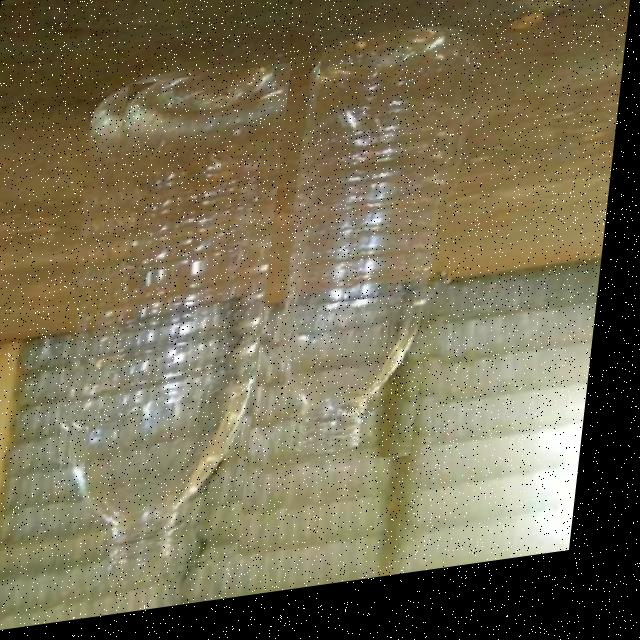litter: (53, 70, 293, 596), (287, 34, 482, 481)
